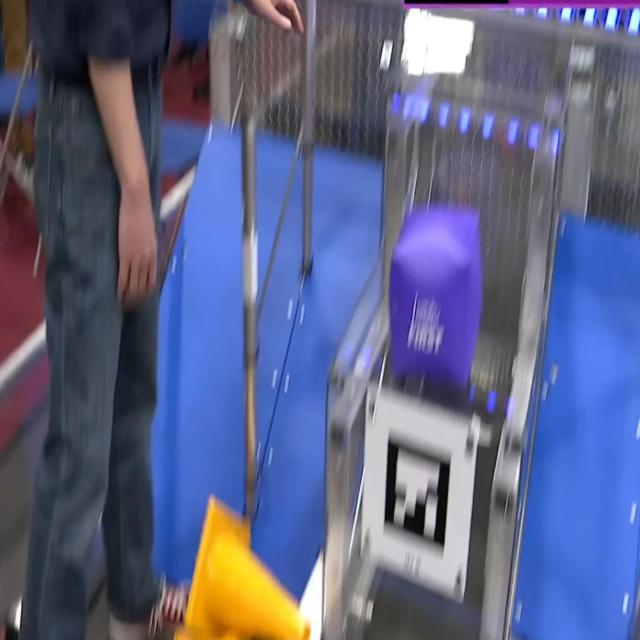frc_cone: (180, 495, 309, 640)
frc_cube: (388, 206, 481, 390)
